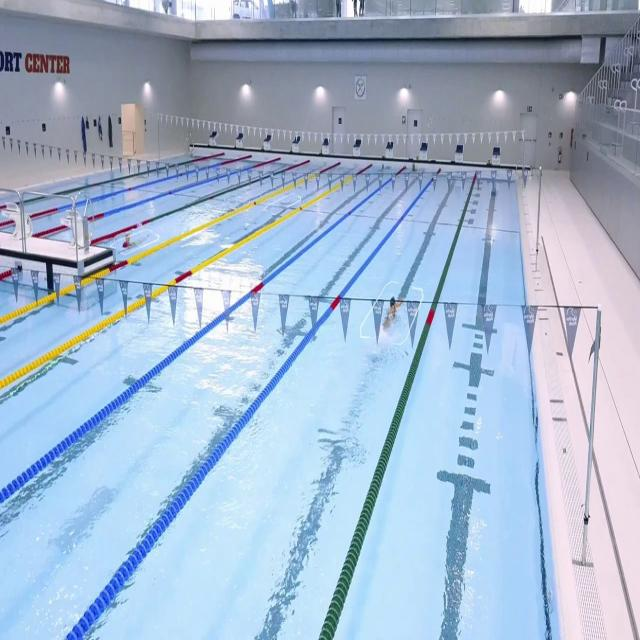Swimming: (382, 296, 403, 332), (265, 192, 298, 213), (123, 235, 151, 247)
